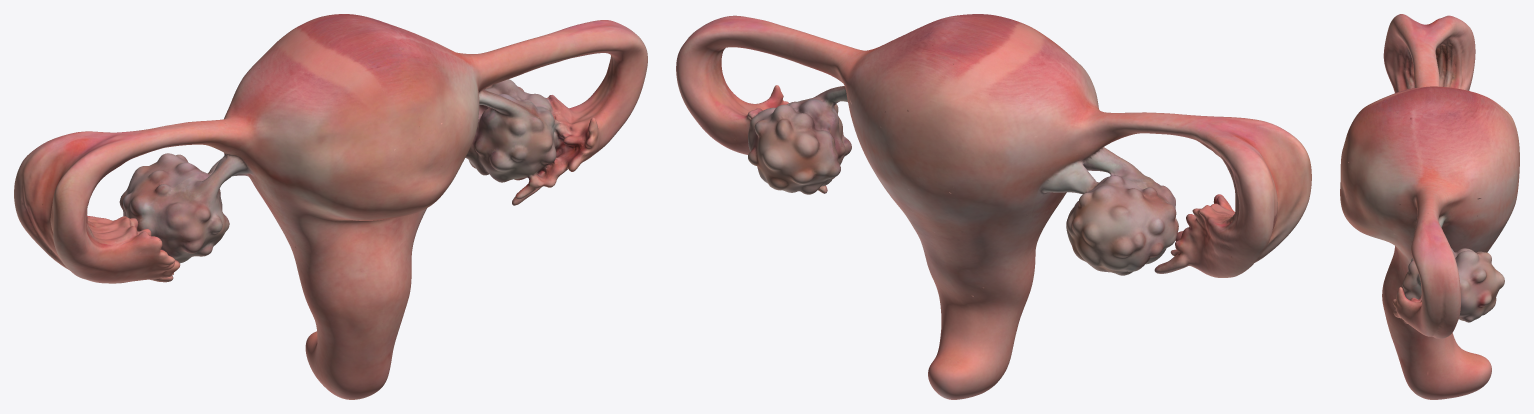
Rendered from uterus.glb.
3 views of the same model, side by side, from view 1: azimuth 30°, elevation 25°; view 2: azimuth 150°, elevation 25°; view 3: azimuth 270°, elevation 25° (orthographic). The views are drawn at different scales.
Size of the model in its own units: 2 by 1.15 by 0.6179.
1 material, 1 textured.
